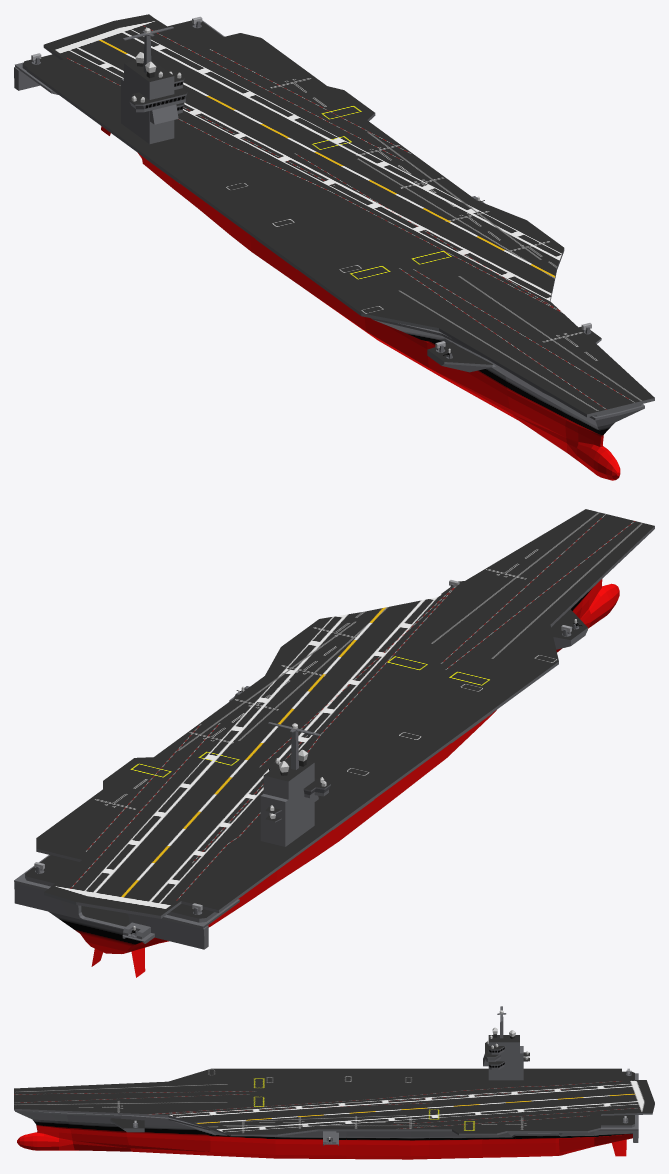
The picture shows the model from 3 angles, top to bottom: view 1: azimuth 30°, elevation 25°; view 2: azimuth 150°, elevation 25°; view 3: azimuth 270°, elevation 25°; orthographic projection. The views are drawn at different scales.
Parts seen in each view (by area): view 1: Cube.023, Cube.037, Cube.036, Cube.028; view 2: Cube.023, Cube.037, Cube.028, Cube.036; view 3: Cube.023, Cube.028, Cube.036, Cube.037.
Boxes of the visible parts, <box> form: Cube.023: <box>14,14,654,480</box>; Cube.037: <box>255,228,338,268</box>; Cube.036: <box>139,142,222,183</box>; Cube.028: <box>238,52,320,90</box>; Cube.023: <box>14,509,654,977</box>; Cube.037: <box>409,701,492,742</box>; Cube.028: <box>56,794,140,832</box>; Cube.036: <box>314,789,374,829</box>; Cube.023: <box>14,1006,654,1159</box>; Cube.028: <box>515,1116,563,1132</box>; Cube.036: <box>434,1068,483,1082</box>; Cube.037: <box>290,1068,340,1082</box>.
Size of the model in its own units: 8383 by 6897 by 34232.
